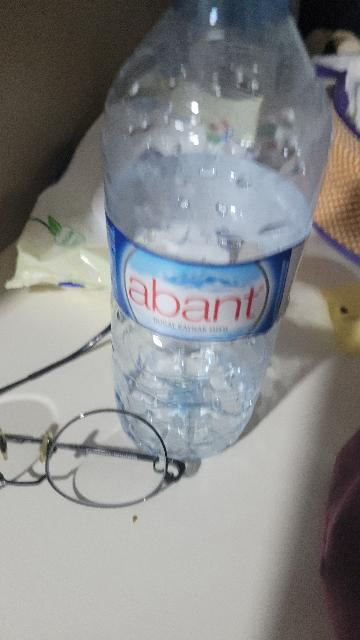Plastik: (106, 0, 333, 482)
